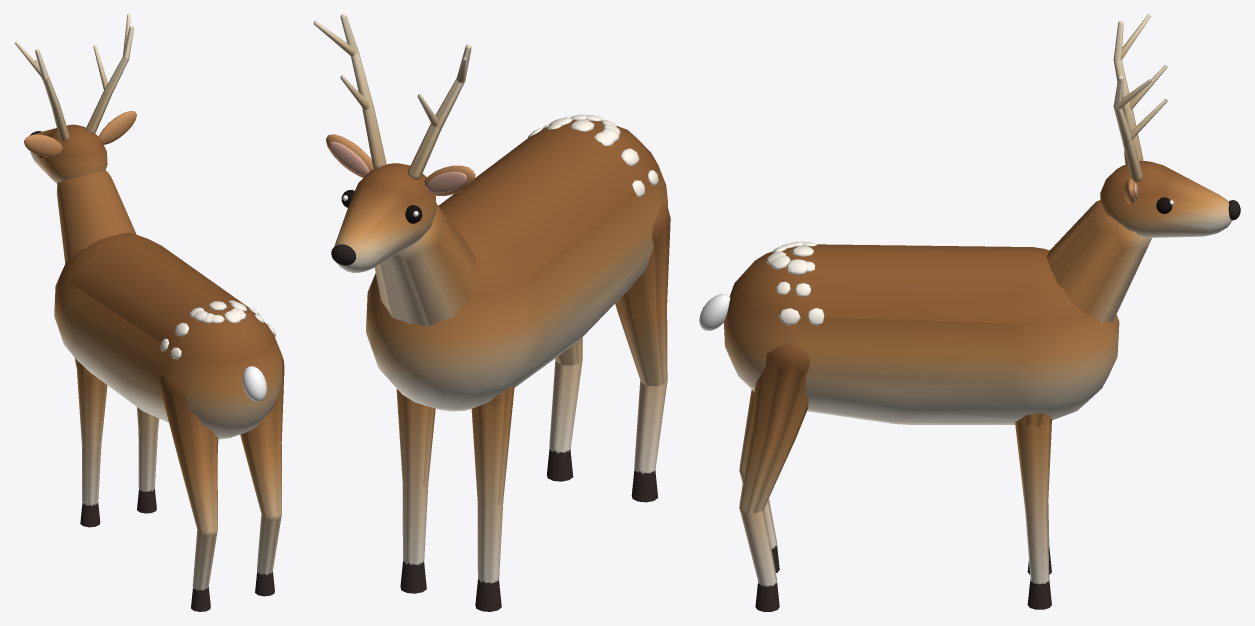
The model's file is Deer.glb.
3 renders of one model, left to right at view 1: azimuth 30°, elevation 25°; view 2: azimuth 150°, elevation 25°; view 3: azimuth 270°, elevation 25°, orthographic. The views are drawn at different scales.
Parts seen in each view (by area): view 1: Body, Head, LegBL, LegBR, LegFL, LegFR, Tail; view 2: Body, Head, LegBL, LegFL, LegFR, LegBR; view 3: Body, Head, LegBR, LegFR, LegBL, Tail.
Boxes of the visible parts, bbox=[...] form: Body: bbox=[54, 170, 282, 439]; Head: bbox=[14, 14, 136, 183]; LegBL: bbox=[159, 374, 218, 611]; LegBR: bbox=[240, 357, 284, 596]; LegFL: bbox=[74, 358, 107, 527]; LegFR: bbox=[137, 407, 159, 513]; Tail: bbox=[242, 366, 266, 401]; Body: bbox=[366, 114, 667, 411]; Head: bbox=[313, 14, 475, 272]; LegBL: bbox=[615, 204, 670, 502]; LegFL: bbox=[471, 385, 514, 611]; LegFR: bbox=[396, 388, 435, 593]; LegBR: bbox=[547, 337, 582, 481]; Body: bbox=[724, 200, 1151, 424]; Head: bbox=[1100, 14, 1240, 237]; LegBR: bbox=[739, 344, 809, 611]; LegFR: bbox=[1015, 413, 1052, 609]; LegBL: bbox=[739, 389, 779, 572]; Tail: bbox=[699, 294, 730, 330].
Bounding box in the file's own units: 2.48 × 9.22 × 8.35.
Materials: 1 (1 with a texture image).
